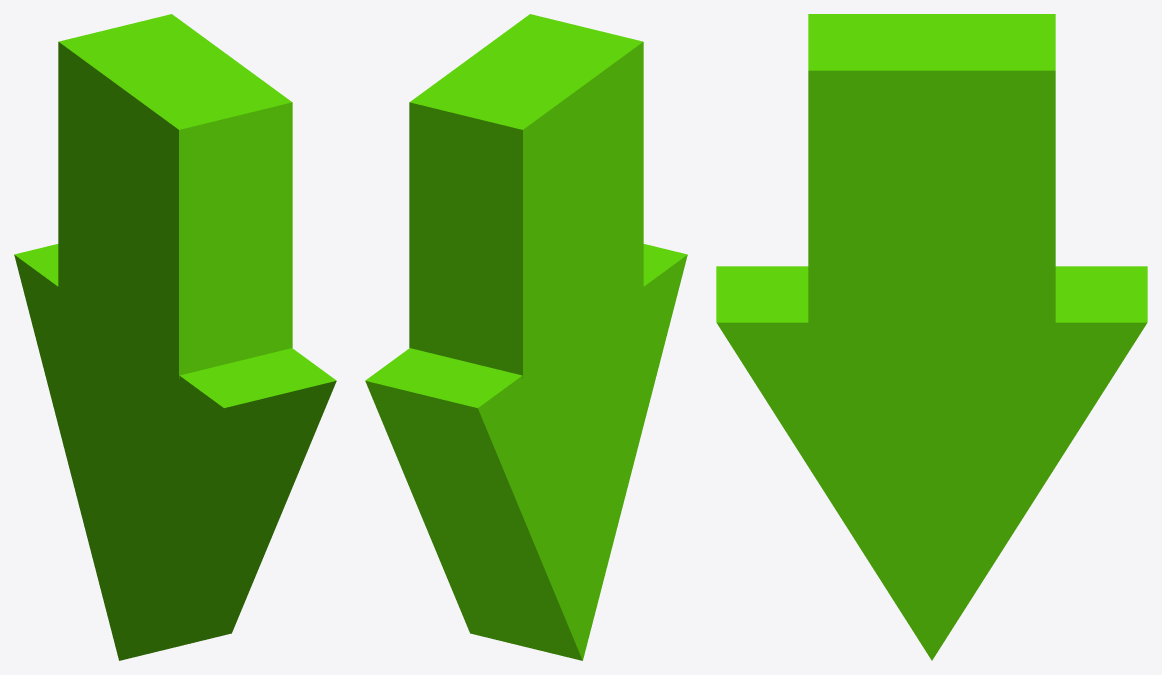
Rendered from arrowMark.fbx.
The picture shows the model from 3 angles, left to right: view 1: azimuth 30°, elevation 25°; view 2: azimuth 150°, elevation 25°; view 3: azimuth 270°, elevation 25°; orthographic projection. The views are drawn at different scales.
Parts seen in each view (by area): view 1: polySurface2; view 2: polySurface2; view 3: polySurface2.
Part boxes in pixels (x1,y1,x2,y2): polySurface2: [14, 14, 336, 660]; polySurface2: [365, 14, 687, 660]; polySurface2: [716, 14, 1147, 660].
Bounding box in the file's own units: 0.2889 × 1.4 × 0.9266.
Materials: 1 (1 with a texture image).
